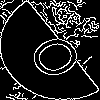O: (25, 25, 95, 84)
